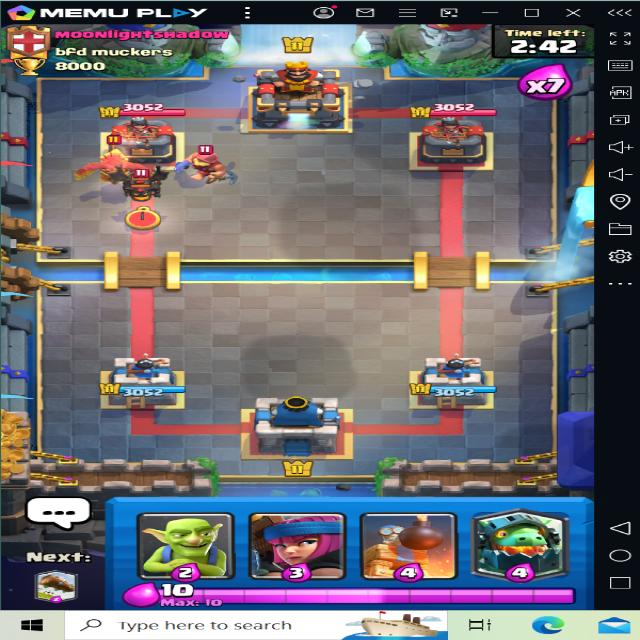fisherman: (171, 140, 259, 185)
lava-hound: (96, 160, 178, 202)
phoenix: (63, 138, 175, 188)
